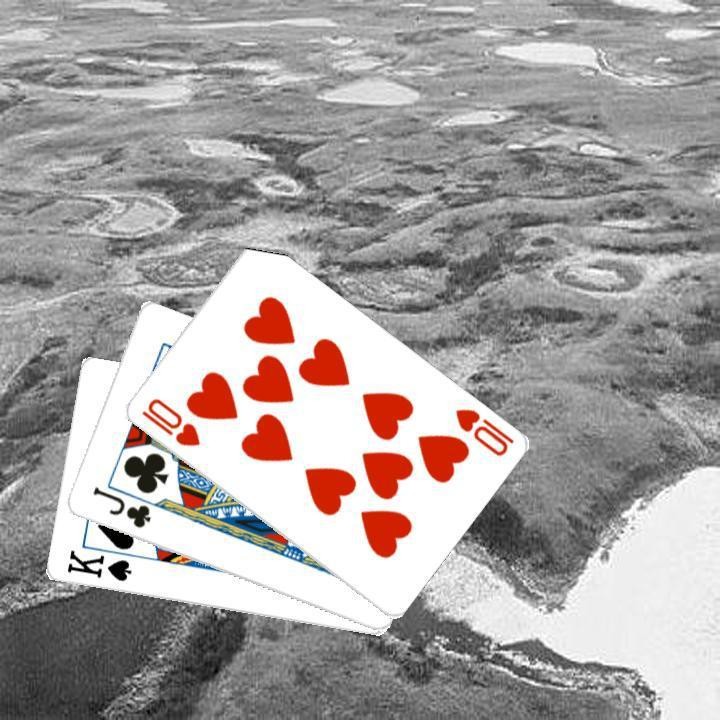10: (136, 394, 202, 449), (450, 404, 515, 459)
J: (87, 482, 152, 531)
K: (62, 546, 133, 584)
